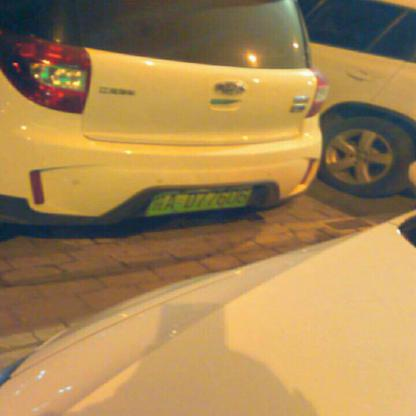lp: (147, 184, 257, 214)
